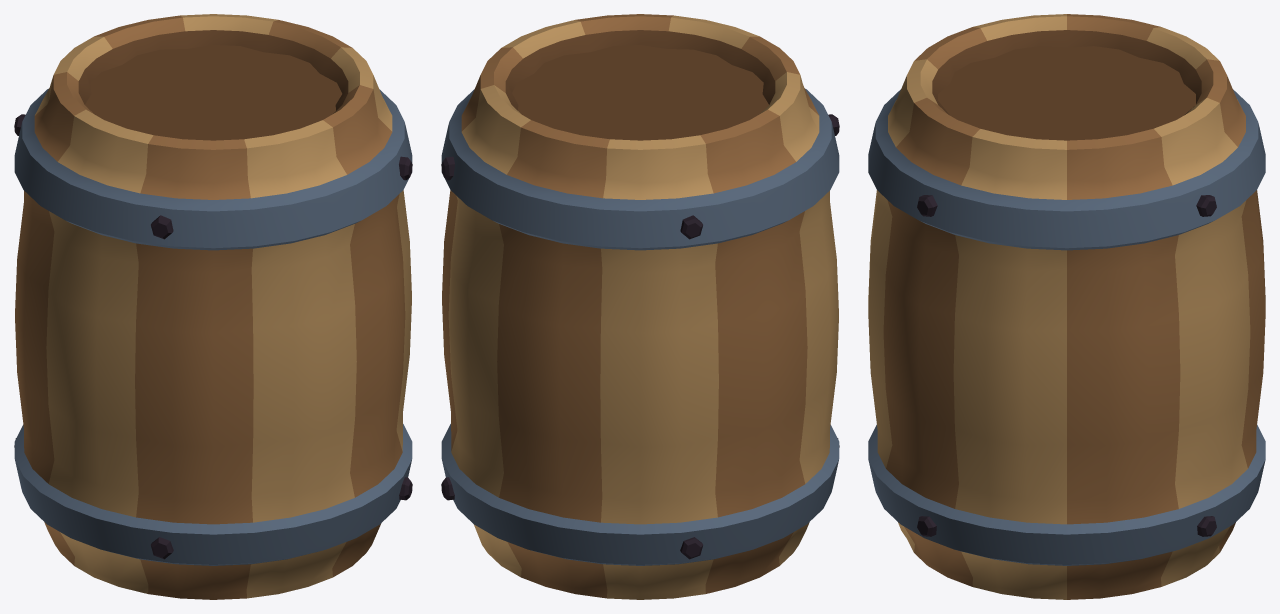
The model's file is Barrel_06.glb.
3 views of the same model, side by side, from view 1: azimuth 30°, elevation 25°; view 2: azimuth 150°, elevation 25°; view 3: azimuth 270°, elevation 25° (orthographic).
Parts seen in each view (by area): view 1: Barrel_06; view 2: Barrel_06; view 3: Barrel_06.
Part boxes in pixels (x1,y1,x2,y2): Barrel_06: [14, 14, 412, 599]; Barrel_06: [441, 14, 839, 599]; Barrel_06: [868, 14, 1265, 599].
Bounding box in the file's own units: 2.05 × 2.59 × 2.04.
